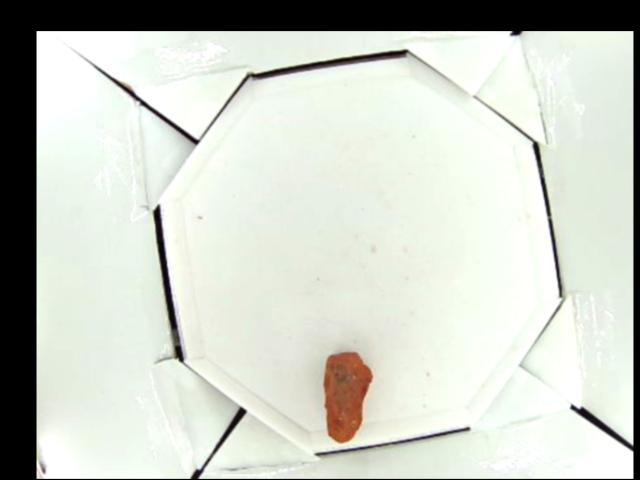Brisk: (323, 352, 371, 442)
